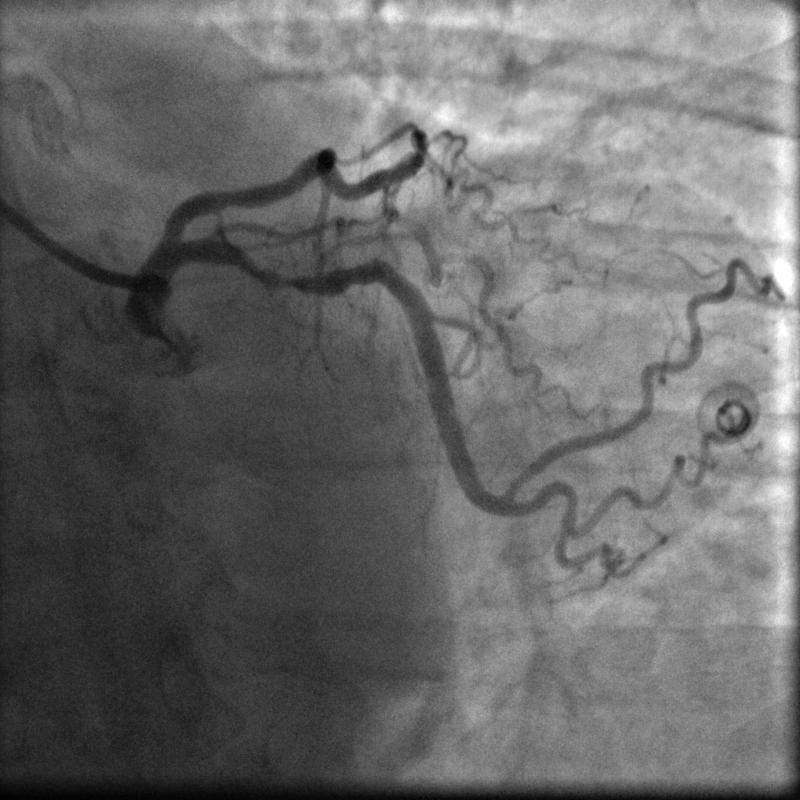Stenosis: (262, 262, 317, 301)
